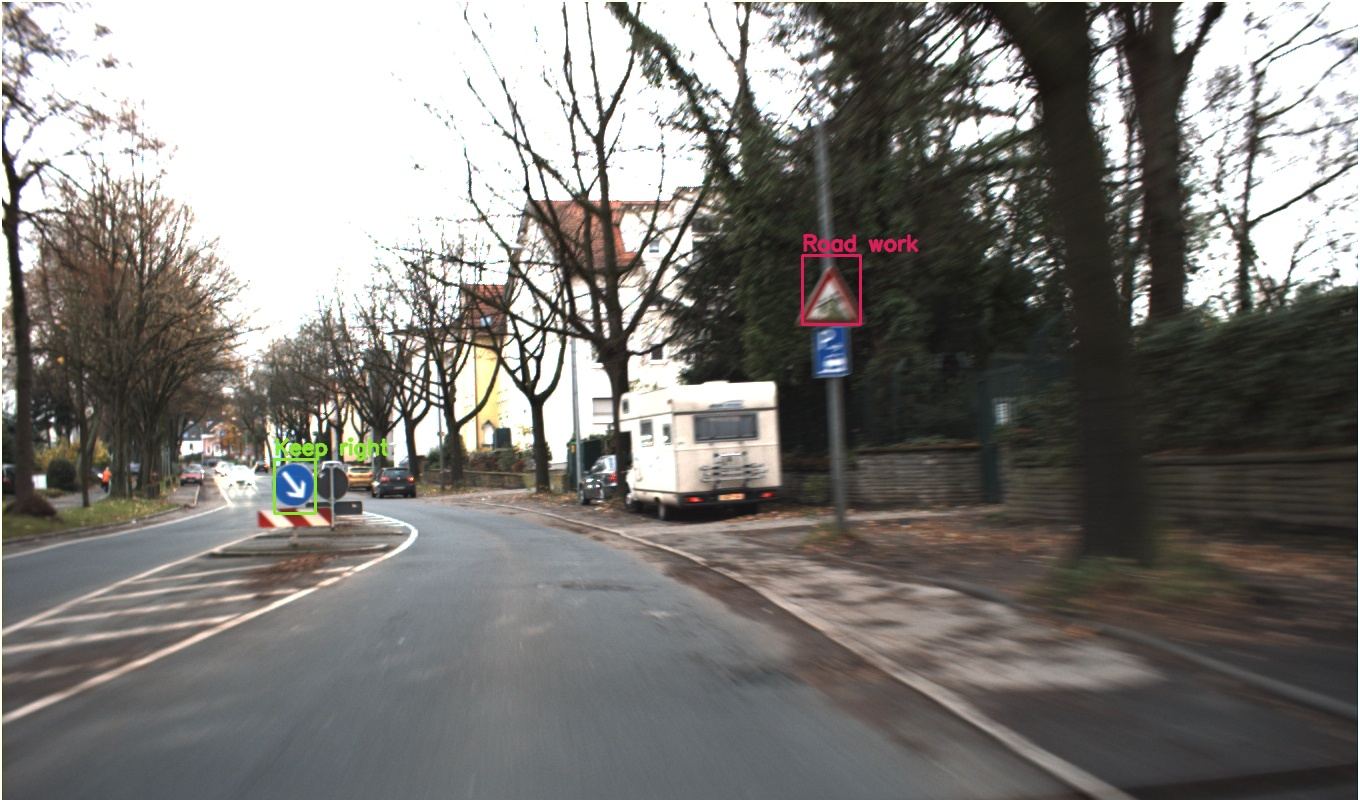General caution: (638, 239, 732, 319)
